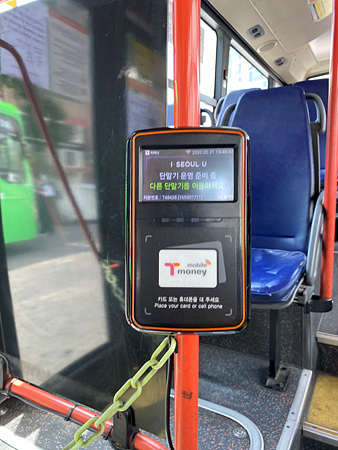terminal: (133, 135, 247, 335)
